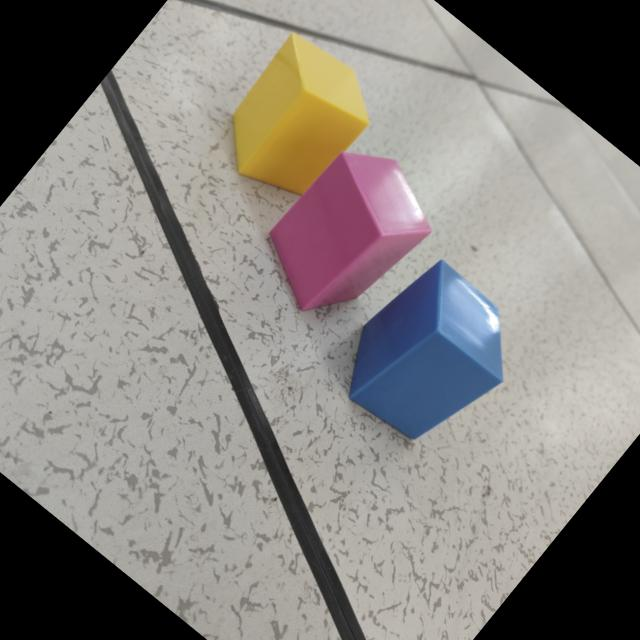blue: (347, 261, 503, 442)
pink: (266, 152, 430, 313)
yellow: (231, 36, 369, 196)
